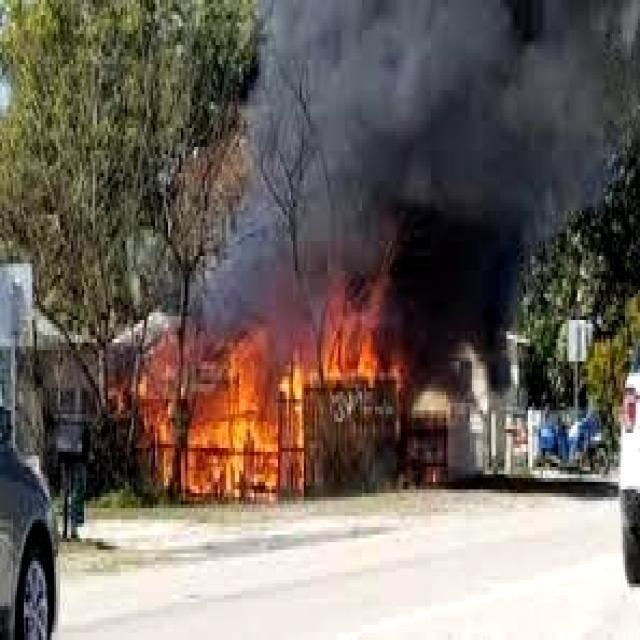Fire: (153, 327, 358, 499)
Smoke: (209, 0, 640, 328)
